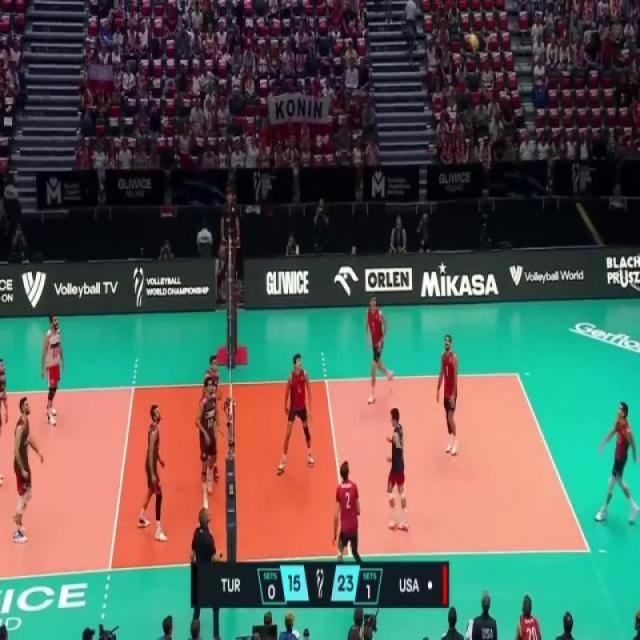volleyball: (468, 31, 480, 54)
